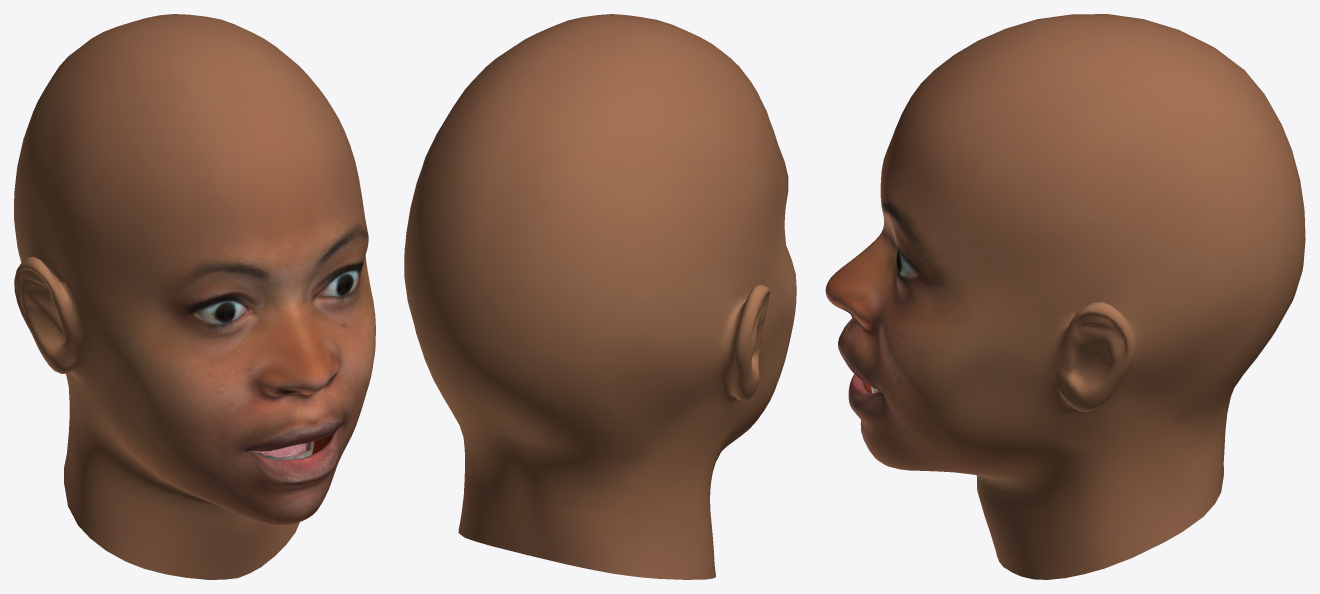
File: v332_obj_Phonemeaah.obj
The picture shows the model from 3 angles, left to right: view 1: azimuth 30°, elevation 25°; view 2: azimuth 150°, elevation 25°; view 3: azimuth 270°, elevation 25°; orthographic projection. The views are drawn at different scales.
Visible parts, largest first — view 1: HeadHires, Mouth; view 2: HeadHires; view 3: HeadHires.
Part boxes in pixels (bbox=[...]): HeadHires: bbox=[14, 14, 375, 579]; Mouth: bbox=[248, 435, 332, 460]; HeadHires: bbox=[404, 14, 796, 579]; HeadHires: bbox=[825, 14, 1305, 579].
Bounding box in the file's own units: 187 × 283 × 233.
